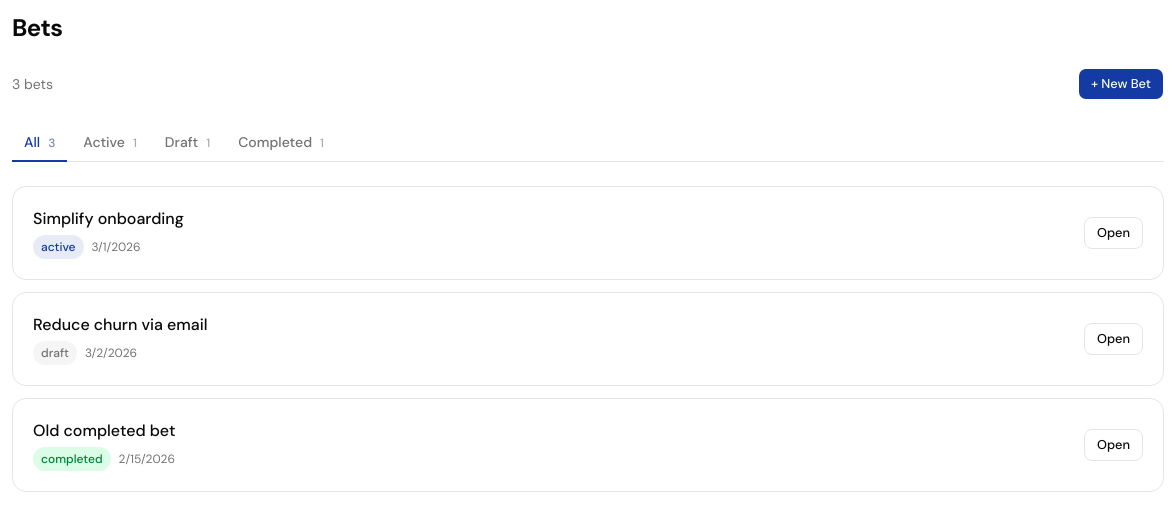
Test case: BetsPage › shows new bet form when + New Bet is clicked
The width and height of the screenshot is (1176, 509).
Click the button "+ New Bet" at {"x": 1121, "y": 84}, box [1078, 68, 1164, 100]
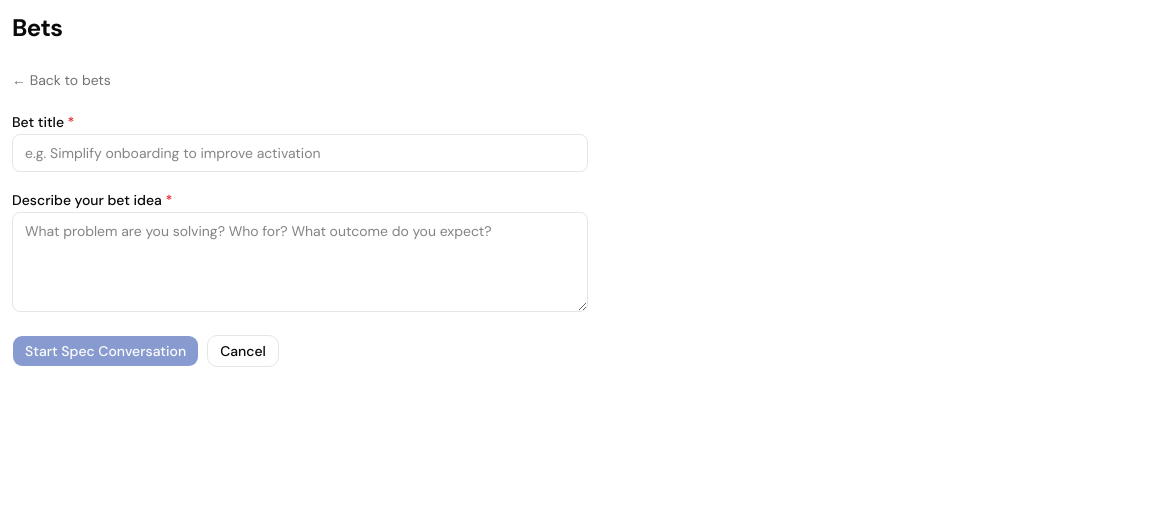
Expected: the text "Bet title" is shown, [12, 113, 68, 131]
Expected: the text "Describe your bet idea" is shown, [12, 191, 165, 209]
